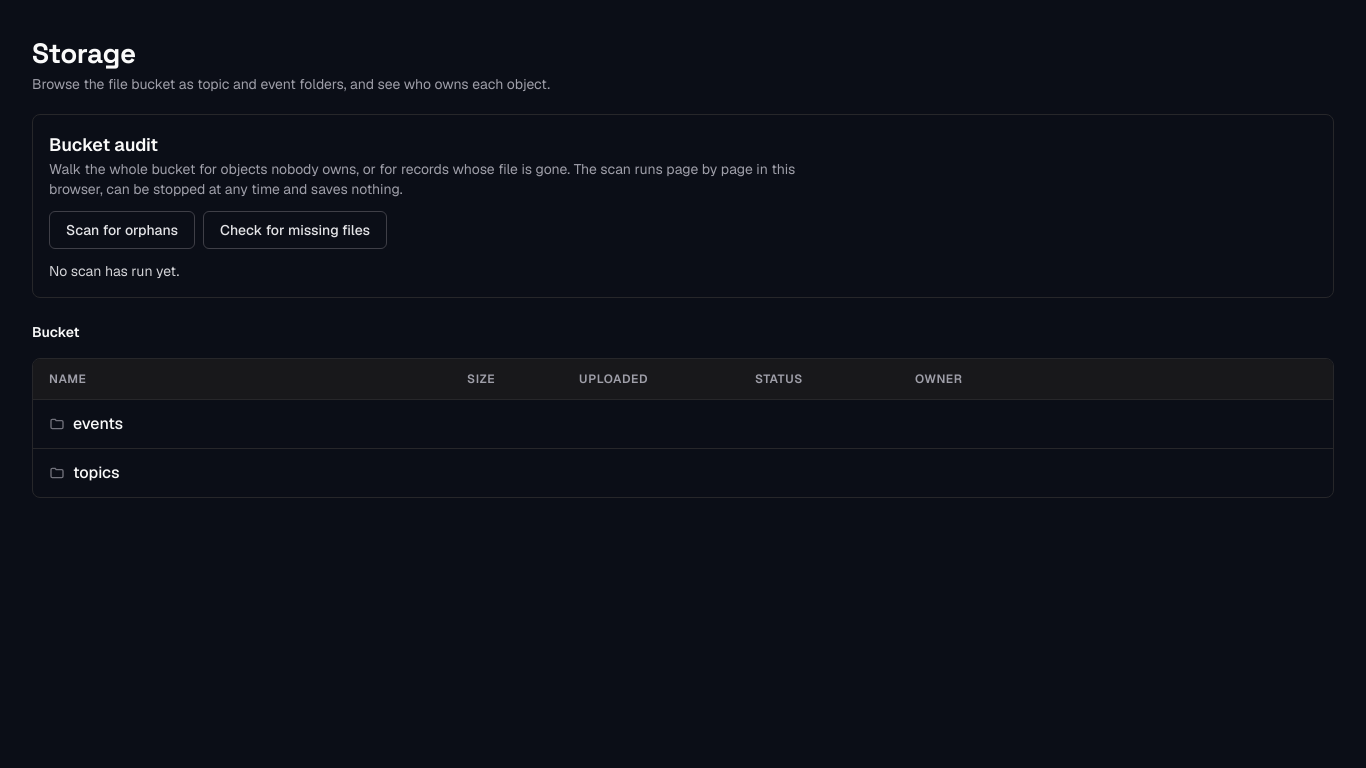
Test: StorageScanPanel › stop aborts the in-flight request and issues no further request
Click the button "Scan for orphans" at (122, 230), box [49,211,195,249]
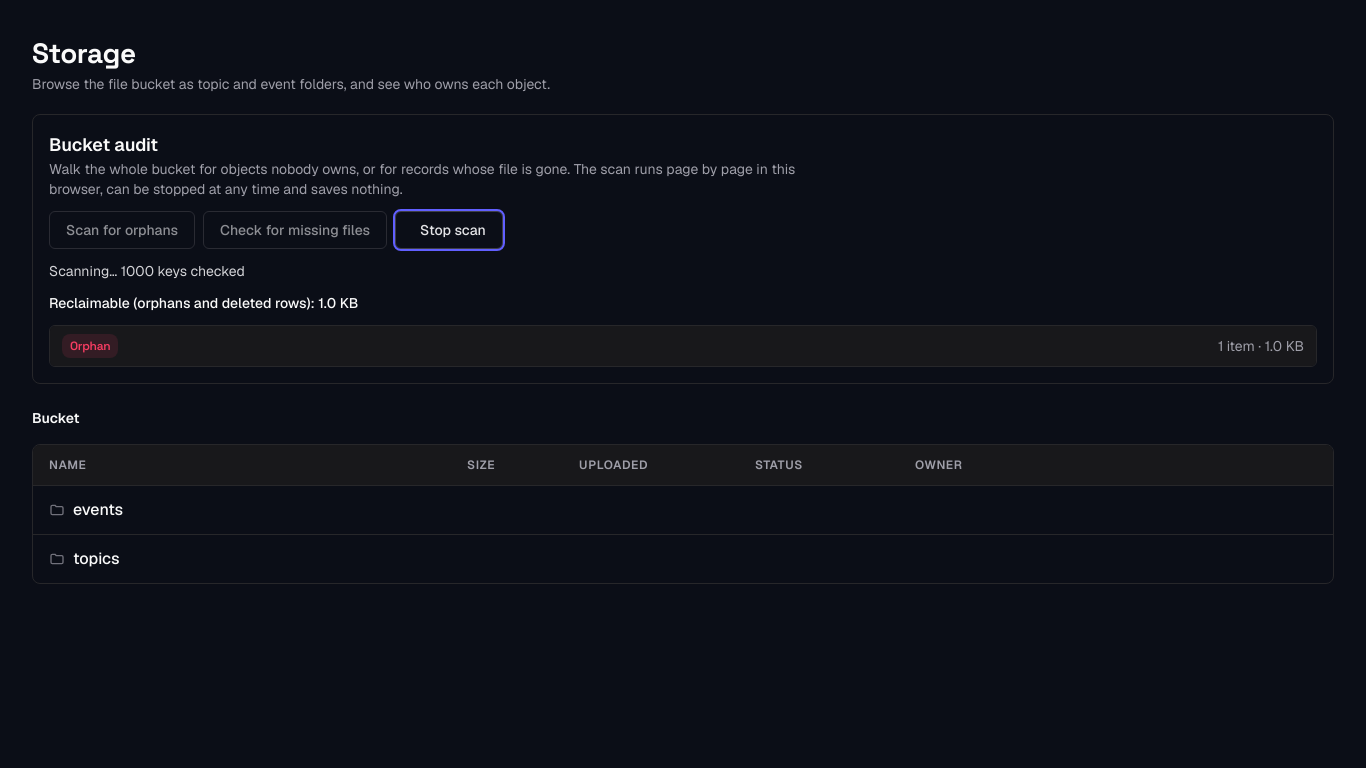
Click the button "Stop scan" at (449, 230), box [395,211,503,249]
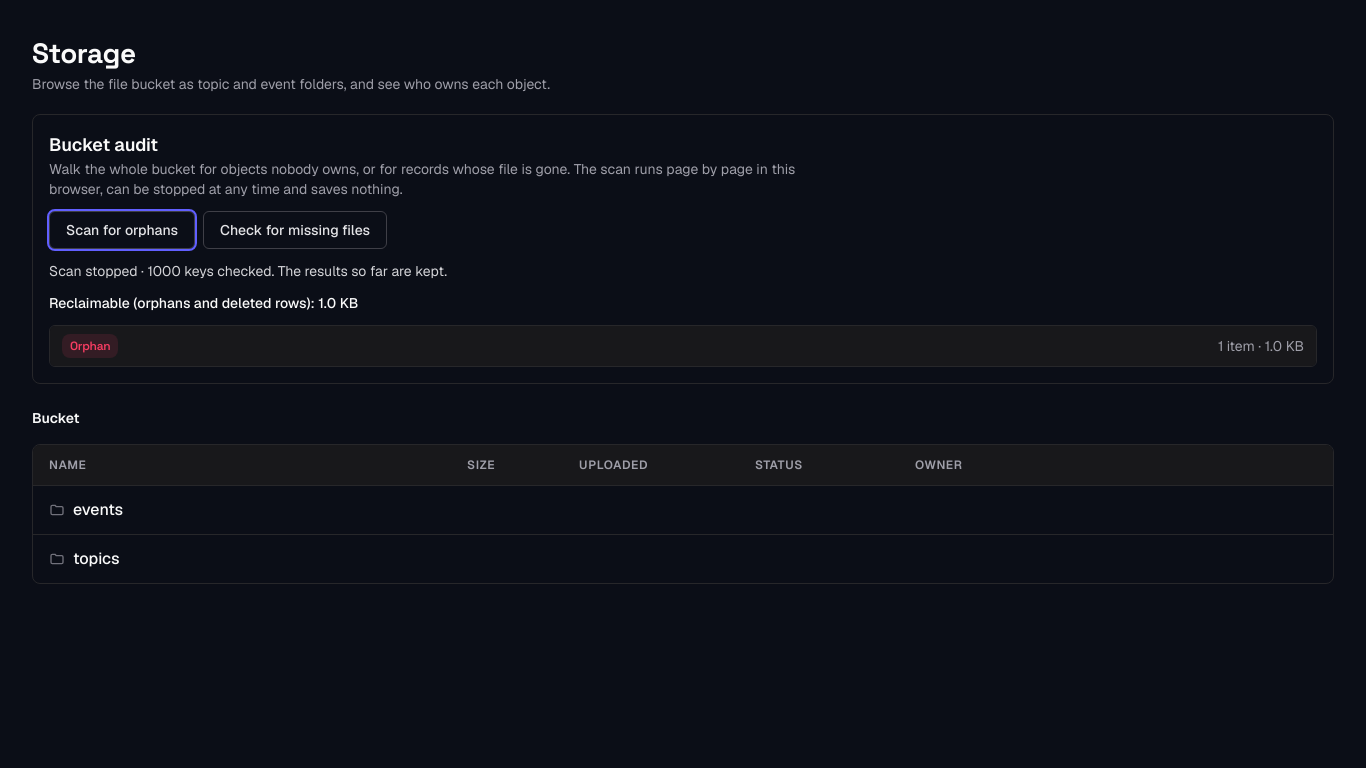
Check: the button "Stop scan" is gone
